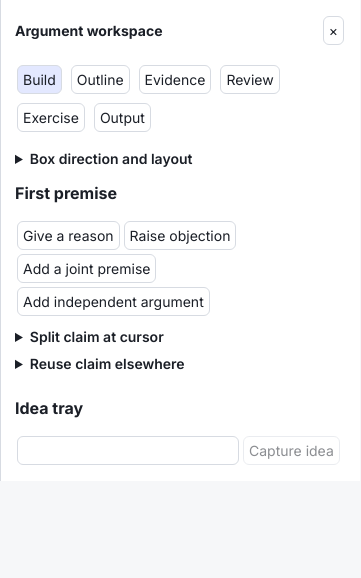
Test: adds and answers a question and converts it to an objection
Later steps or results of the test are not shown.
Click the button "Review" at (250, 80), box [220,65,280,94]
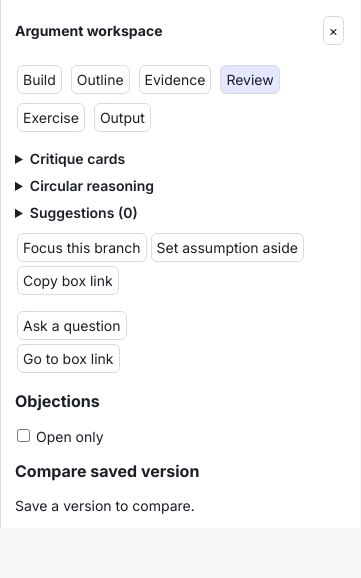
Click the button "Ask a question" at (72, 326), box [17,311,126,340]
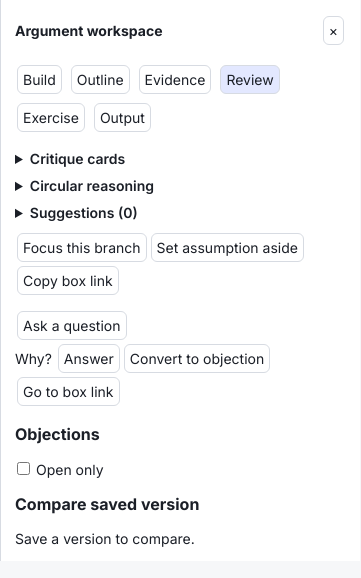
Result: the button "Answer" is shown
Click the button "Answer" at (89, 358), box [58,344,120,373]
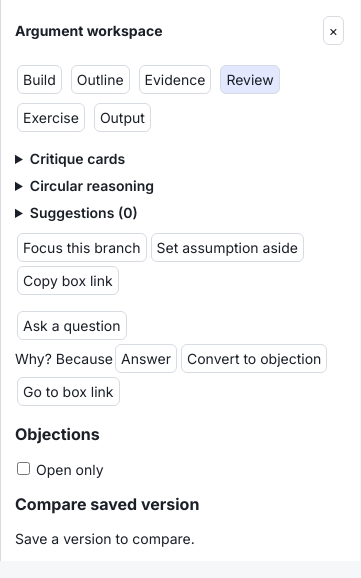
Result: the button "Convert to objection" is shown at [181,344,327,373]
